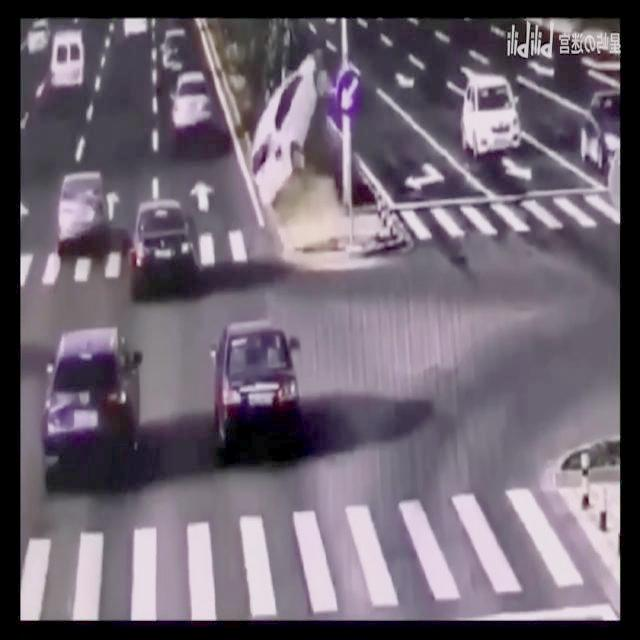accident: (246, 50, 354, 270)
non-accident: (58, 170, 204, 306), (162, 29, 218, 153)
